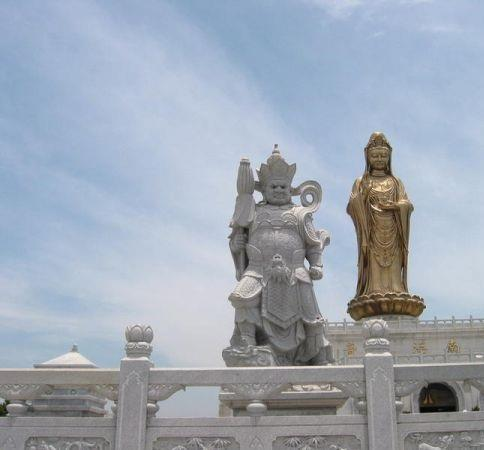Putuo_Mountain_Avalokitesvara: (342, 127, 429, 322)
